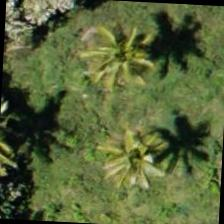Kelapa_Sawit: (60, 11, 154, 106), (85, 114, 180, 208)
